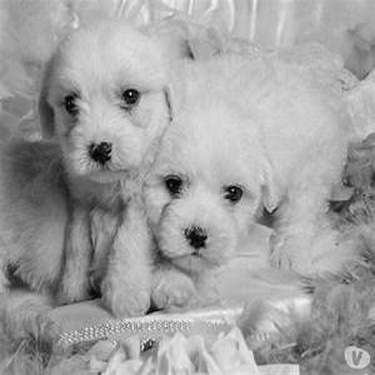dog: (131, 12, 368, 332), (5, 1, 221, 330)
